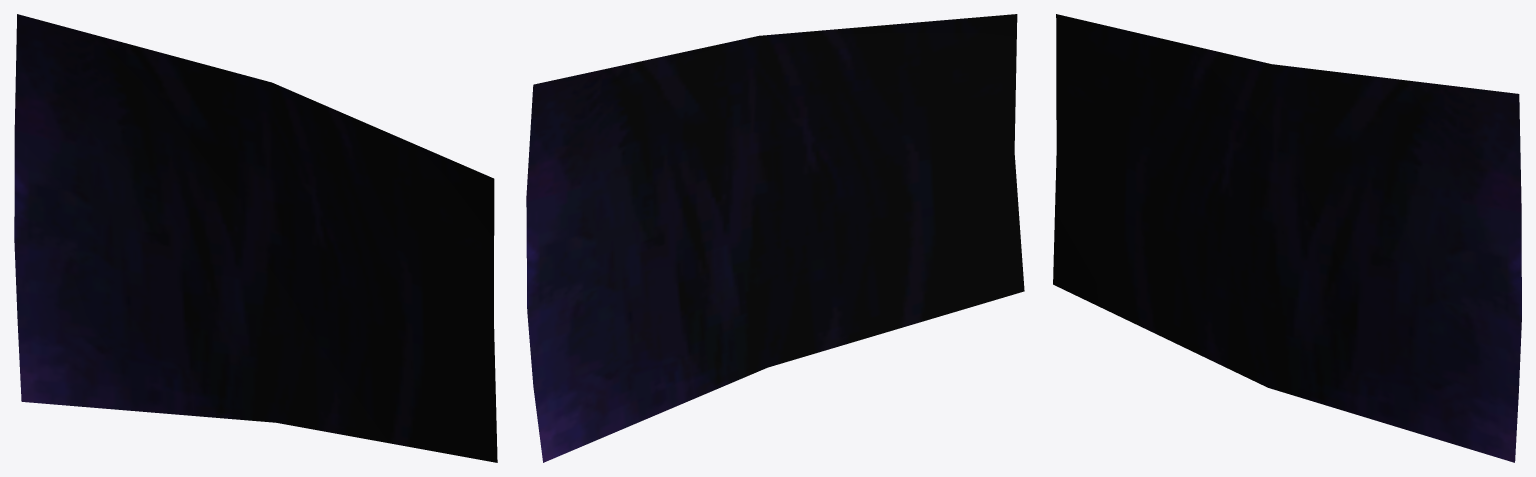
File: SWORDLIGHT20_PS-AREA05-RANGE01_02.fbx
The picture shows the model from 3 angles, left to right: view 1: azimuth 90°, elevation 25°; view 2: azimuth 150°, elevation 25°; view 3: azimuth 270°, elevation 25°; orthographic projection. The views are drawn at different scales.
Visible parts, largest first — view 1: SWORDLIGHT20_PS-AREA05-RANGE01_02; view 2: SWORDLIGHT20_PS-AREA05-RANGE01_02; view 3: SWORDLIGHT20_PS-AREA05-RANGE01_02.
Part boxes in pixels (x1,y1,x2,y2): SWORDLIGHT20_PS-AREA05-RANGE01_02: (14,14,497,462); SWORDLIGHT20_PS-AREA05-RANGE01_02: (526,14,1024,462); SWORDLIGHT20_PS-AREA05-RANGE01_02: (1053,14,1521,462).
Bounding box in the file's own units: 136678 × 189532 × 216115.
1 material, 1 textured.
